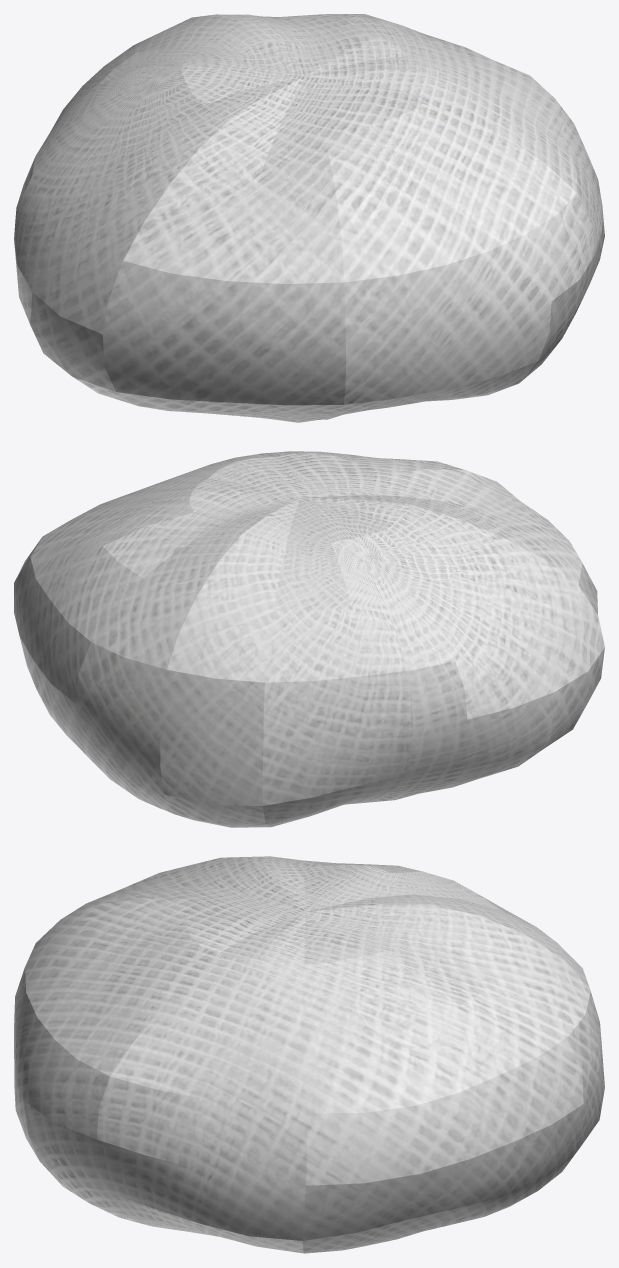
Rendered from Gaze esteril.fbx.
The picture shows the model from 3 angles, top to bottom: view 1: azimuth 30°, elevation 25°; view 2: azimuth 150°, elevation 25°; view 3: azimuth 270°, elevation 25°; orthographic projection. The views are drawn at different scales.
Visible parts, largest first — view 1: Gaze; view 2: Gaze; view 3: Gaze.
Boxes of the visible parts, x1,y1,x2,y2 form: Gaze: [14, 14, 604, 422]; Gaze: [14, 451, 604, 827]; Gaze: [14, 856, 604, 1253].
Bounding box in the file's own units: 7.13 × 3.88 × 6.7.
1 material, 1 textured.
